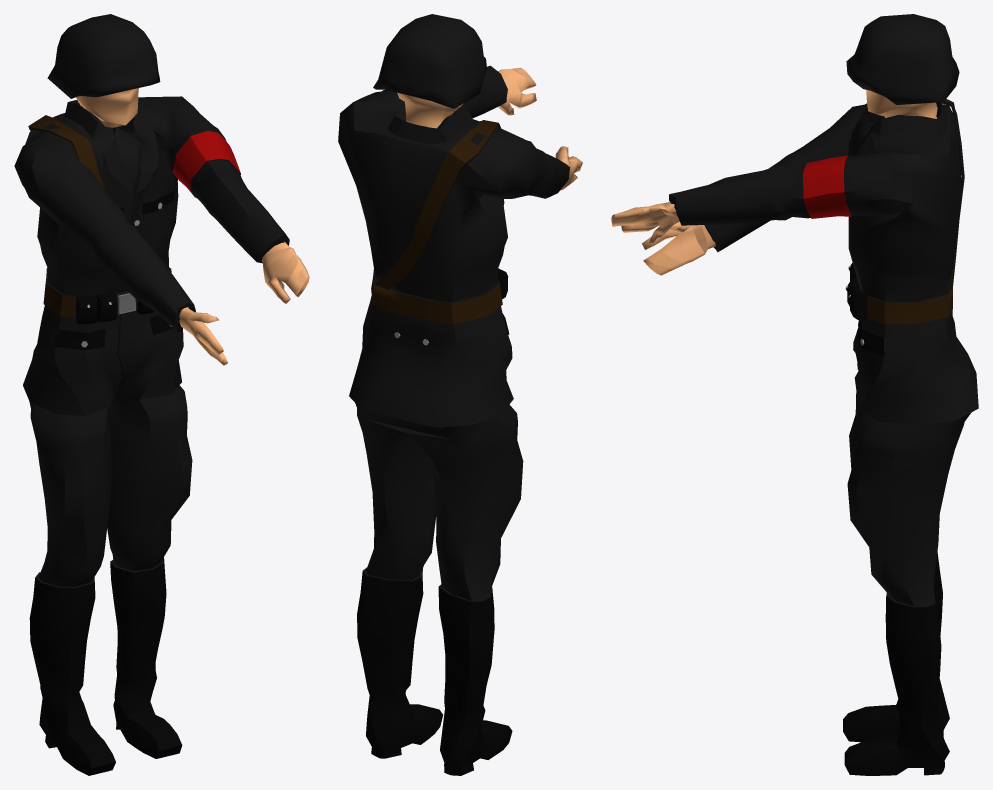
Rendered from german_infantry_aim_crouch_00.glb.
The picture shows the model from 3 angles, left to right: view 1: azimuth 30°, elevation 25°; view 2: azimuth 150°, elevation 25°; view 3: azimuth 270°, elevation 25°; orthographic projection.
Parts seen in each view (by area): view 1: Soldier_1_Static, Helmet_Static; view 2: Soldier_1_Static, Helmet_Static; view 3: Soldier_1_Static, Helmet_Static.
Part boxes in pixels (x1,y1,x2,y2): Soldier_1_Static: (14,88,309,775); Helmet_Static: (47,14,160,98); Soldier_1_Static: (338,65,582,775); Helmet_Static: (373,14,486,108); Soldier_1_Static: (611,90,978,775); Helmet_Static: (846,14,959,104).
Bounding box in the file's own units: 0.4721 × 1.75 × 0.7956.
Materials: 1 (1 with a texture image).
